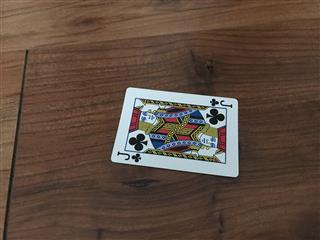JackOfClubs: (110, 85, 239, 177)
